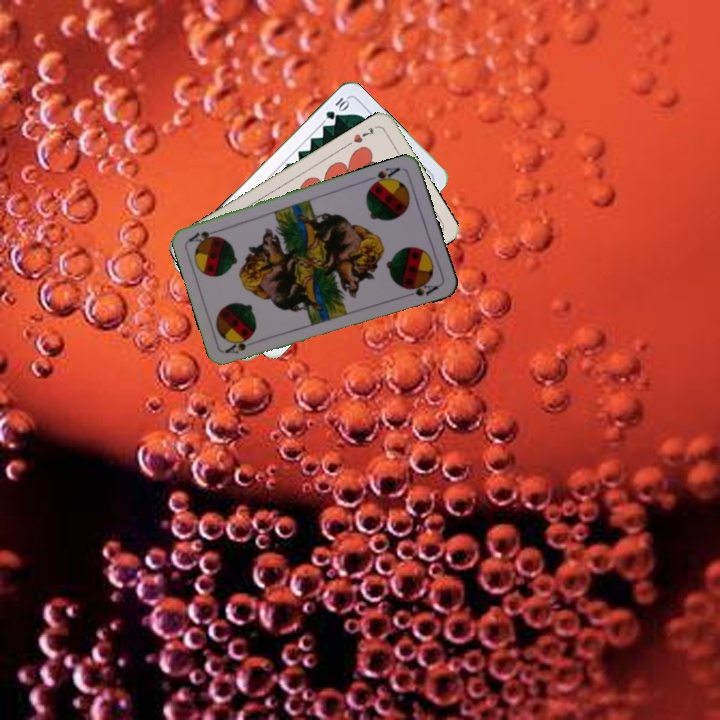G10: (321, 93, 352, 122)
H7: (349, 123, 377, 146)
SA: (365, 163, 402, 189), (221, 334, 252, 356)
